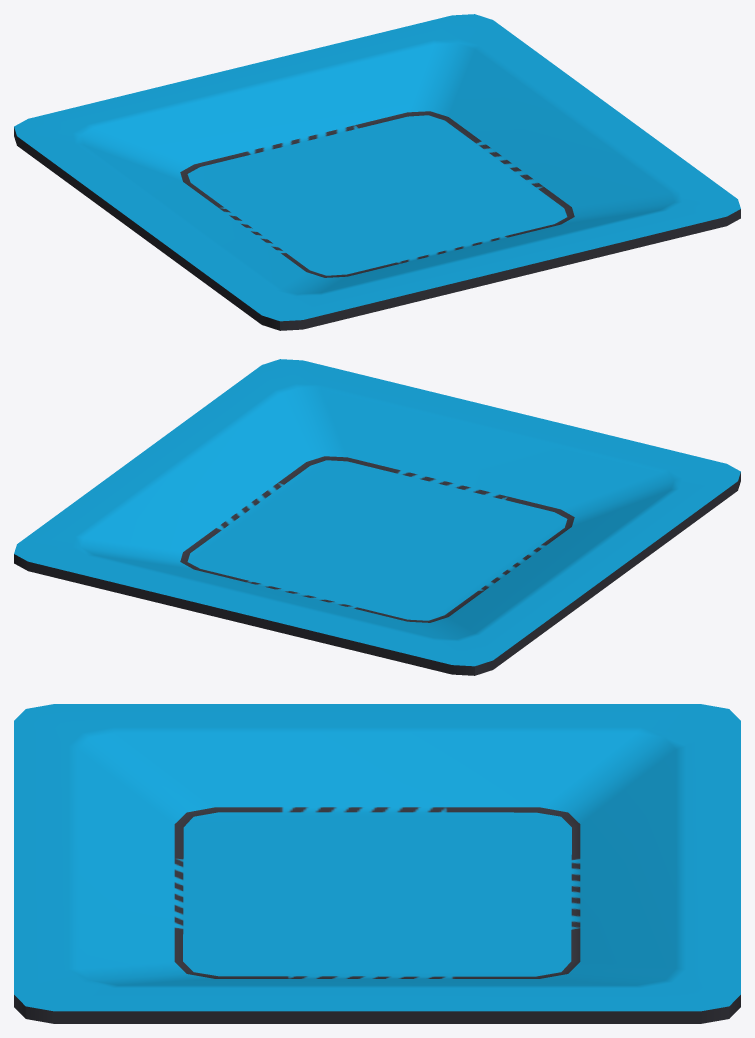
Rendered from Assiete.fbx.
3 views of the same model, one above another, from view 1: azimuth 30°, elevation 25°; view 2: azimuth 150°, elevation 25°; view 3: azimuth 270°, elevation 25° (orthographic). The views are drawn at different scales.
Parts seen in each view (by area): view 1: assiette_carre; view 2: assiette_carre; view 3: assiette_carre.
Boxes of the visible parts, left/top/right/bottom form: assiette_carre: left=14, top=14, right=740, bottom=330; assiette_carre: left=14, top=359, right=740, bottom=675; assiette_carre: left=14, top=704, right=740, bottom=1023.
Bounding box in the file's own units: 10.14 × 0.957 × 10.14.
Materials: 1 (1 with a texture image).
